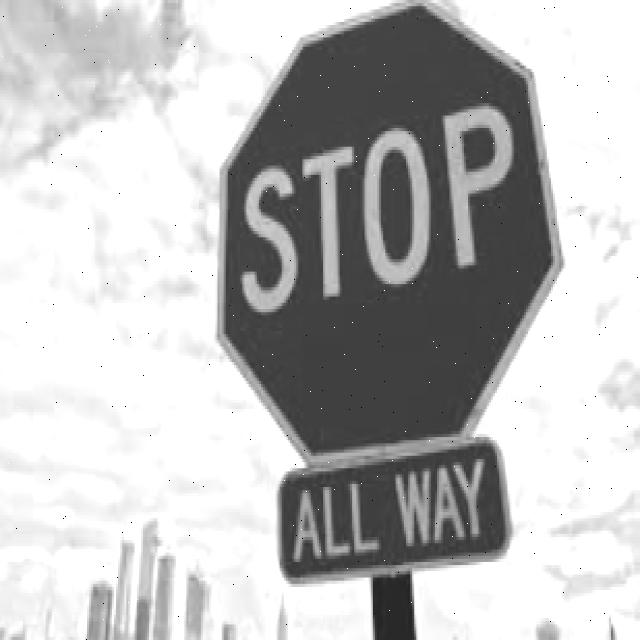Stop-signs: (214, 0, 565, 469)
